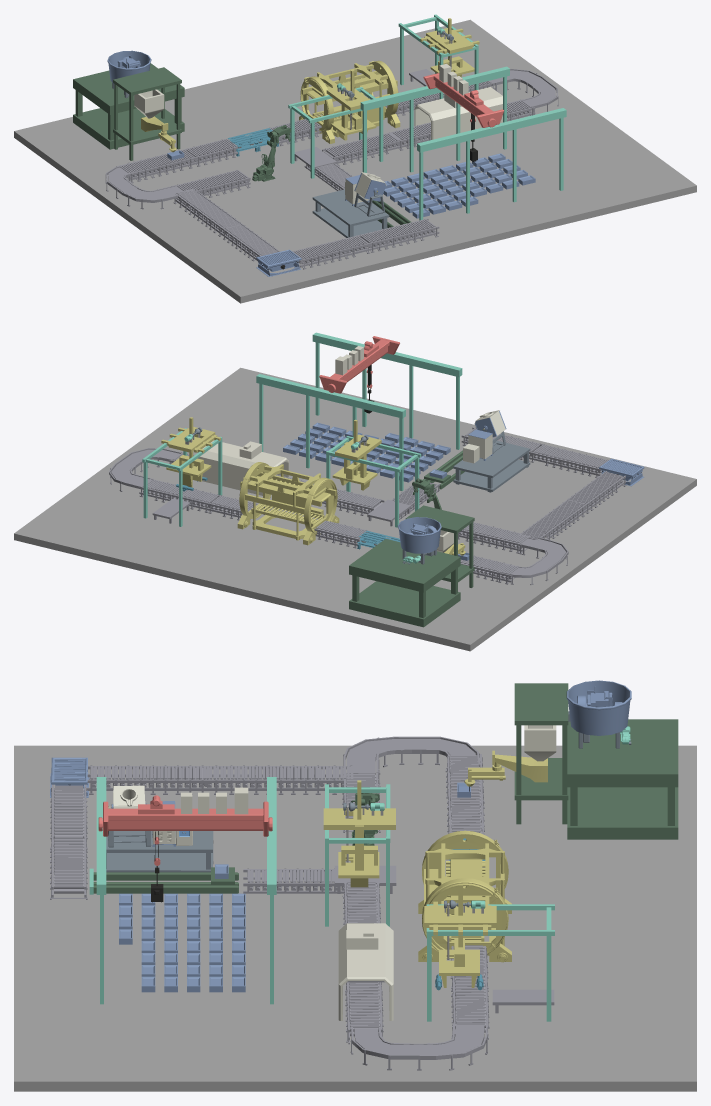
The picture shows the model from 3 angles, top to bottom: view 1: azimuth 30°, elevation 25°; view 2: azimuth 150°, elevation 25°; view 3: azimuth 270°, elevation 25°; orthographic projection. The views are drawn at different scales.
Visible parts, largest first — view 1: polySurface3849; view 2: polySurface3849; view 3: polySurface3849.
Boxes of the visible parts, left/top/right/bottom form: polySurface3849: left=14, top=14, right=696, bottom=303; polySurface3849: left=14, top=332, right=696, bottom=651; polySurface3849: left=14, top=680, right=696, bottom=1091.
Bounding box in the file's own units: 23.08 × 5.67 × 19.84.
